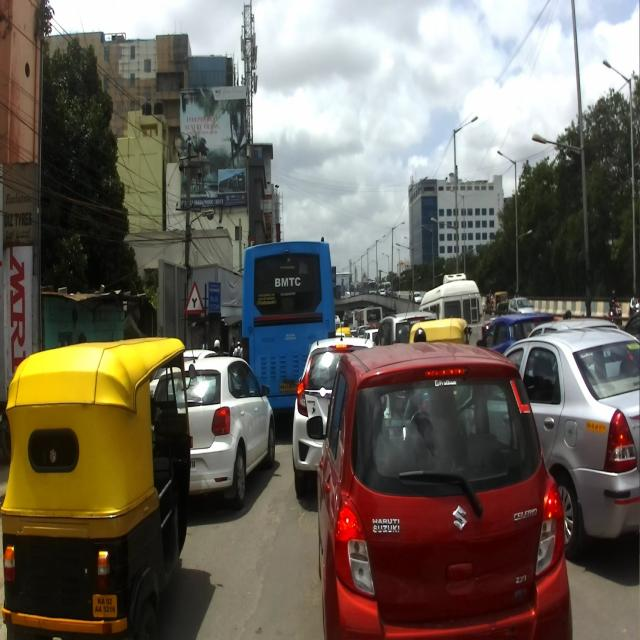autorickshaw: (1, 335, 196, 637)
bus: (240, 240, 336, 372)
car: (305, 338, 574, 639), (503, 327, 639, 559), (152, 341, 275, 511)
